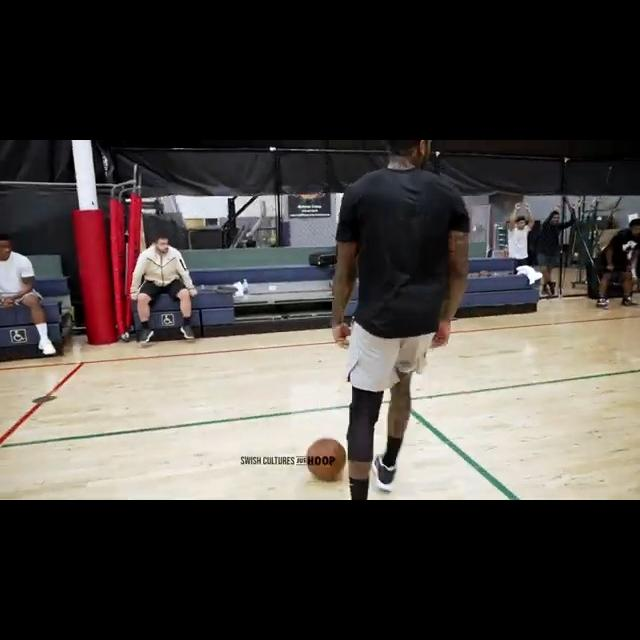basketball: (305, 438, 346, 483)
person: (330, 141, 471, 500), (129, 233, 199, 347), (0, 241, 58, 355), (597, 216, 640, 306), (540, 208, 568, 298), (505, 203, 537, 271)
